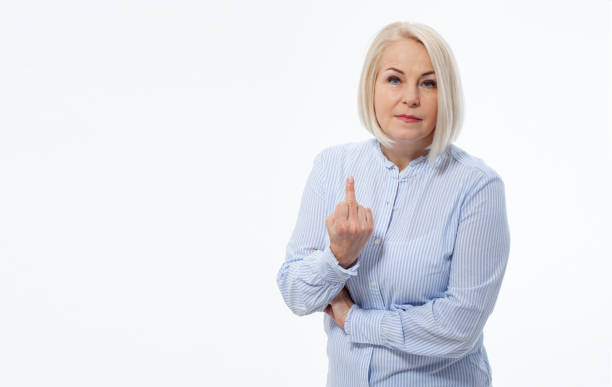insulting_gesture: (323, 177, 375, 266)
